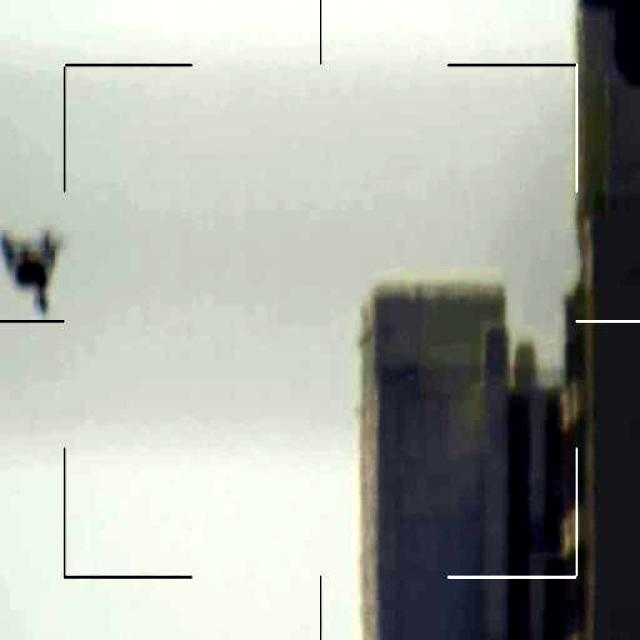bird: (0, 225, 62, 311)
